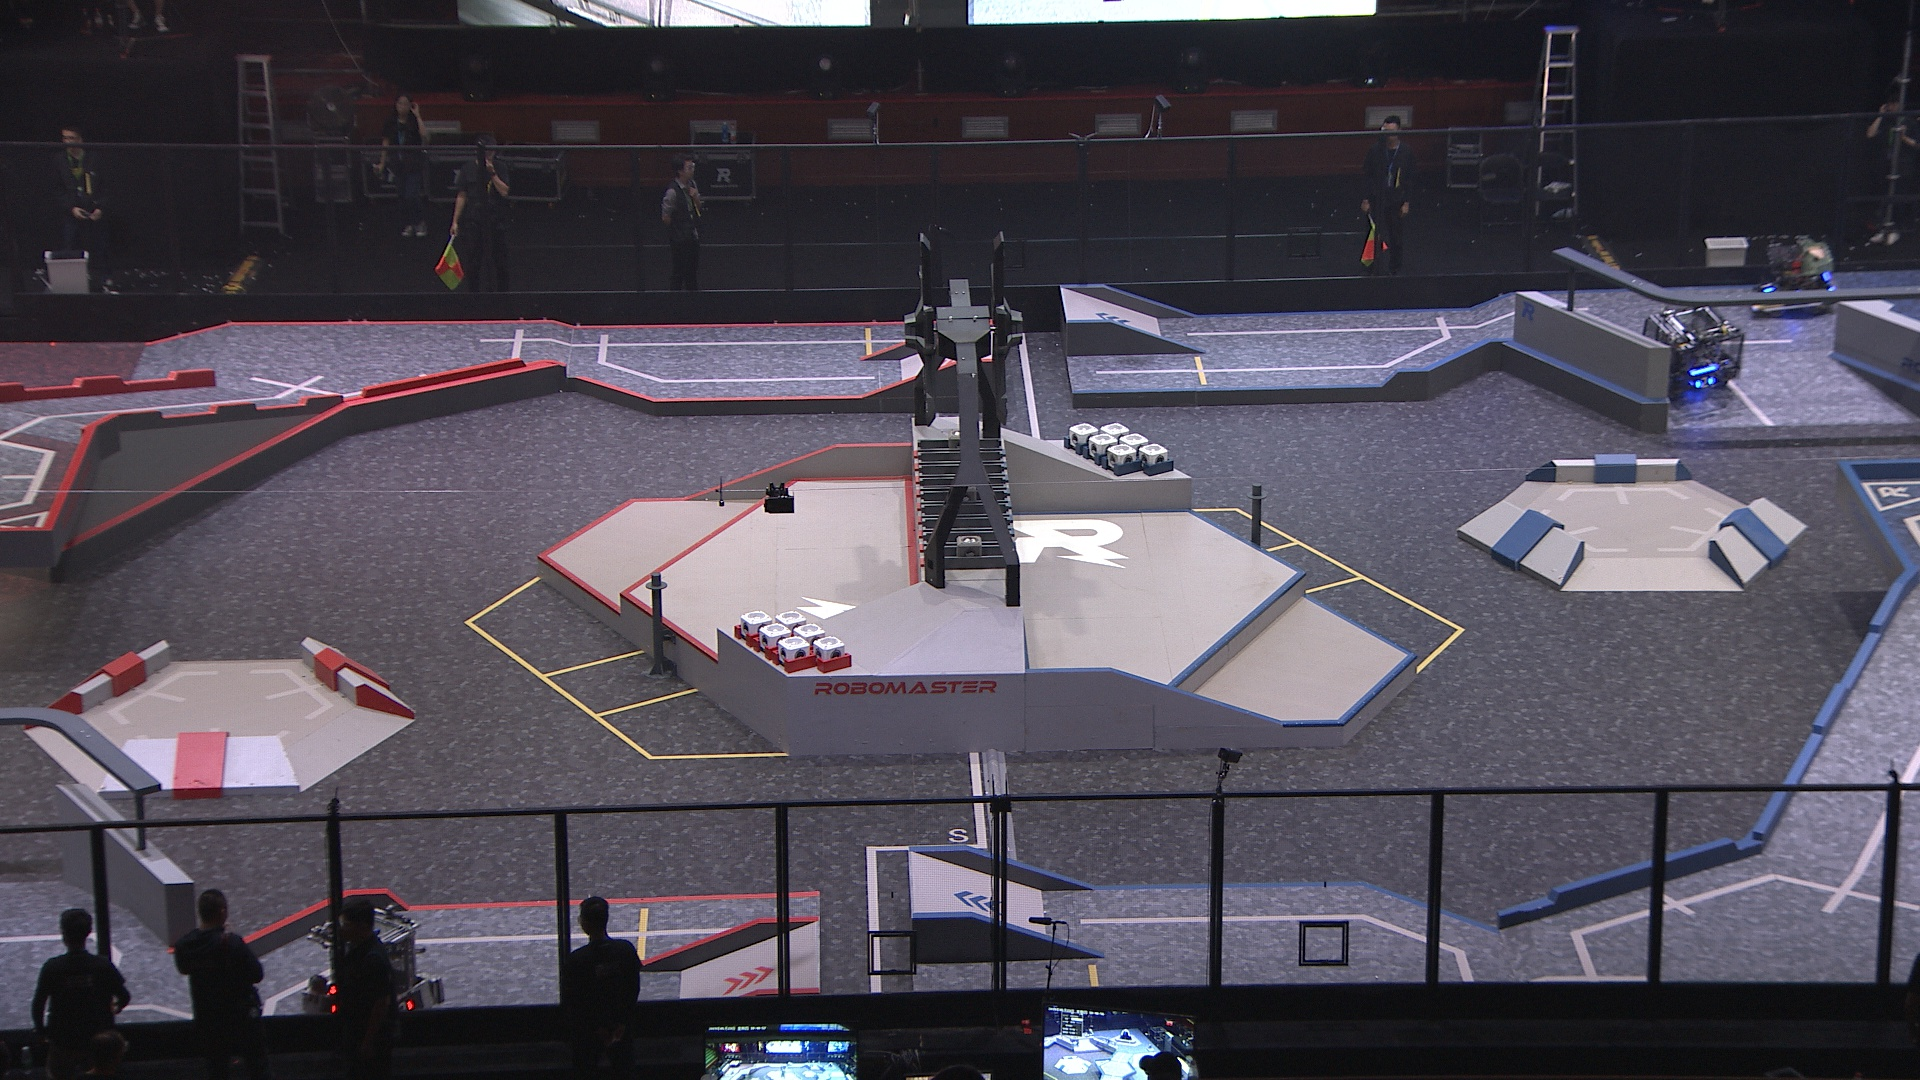armor: (1695, 373, 1718, 392), (396, 1000, 419, 1015), (1760, 278, 1778, 294)
car: (301, 898, 447, 1029), (1638, 301, 1746, 404), (1747, 235, 1840, 316)
